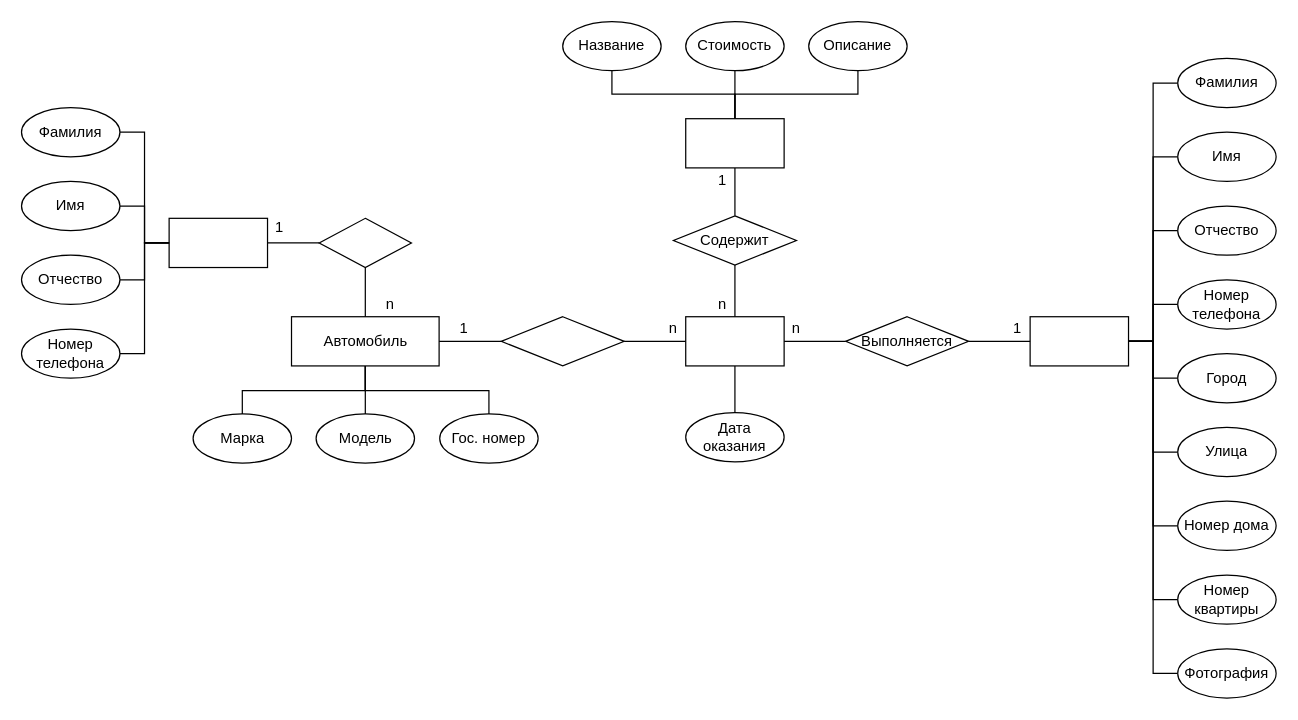
Image size: 1298x720. Some labels were removed from this diagram. Here are the shapes that lost their labels. From the top down, the box of each, then its label:
(684, 117, 784, 168): Услуга
(168, 217, 268, 268): Клиент
(318, 217, 411, 268): Владеет
(500, 315, 624, 366): Оказывается
(684, 315, 784, 366): Оказываемая услуга
(1029, 315, 1129, 366): Сотрудник
